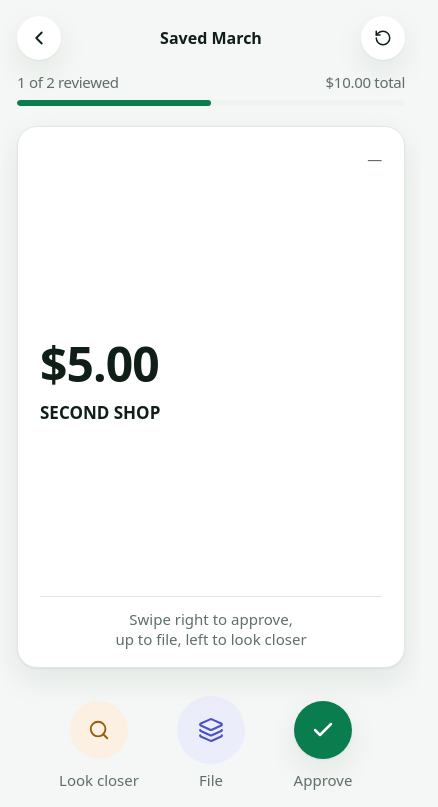
Test: App › reopens the review the user was in, with undo still working
The image size is (438, 807).
Expected: the text "SECOND SHOP" is shown, [40,402,160,424]
Expected: the heading reads "Saved March", [160,27,262,49]
What coordinates should you click on to do the following:
click the button named "Undo last action"
I would click on:
 (383, 38)
Its box is [361,16,405,60].
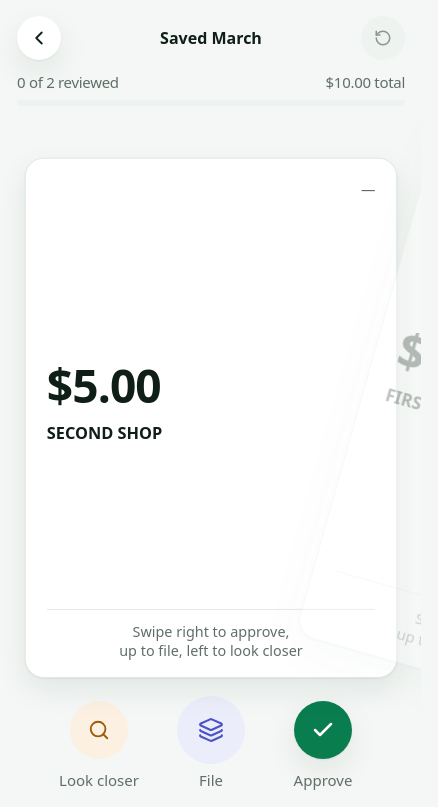
Now the text "0 of 2 reviewed" is shown, box [17,72,119,92]
